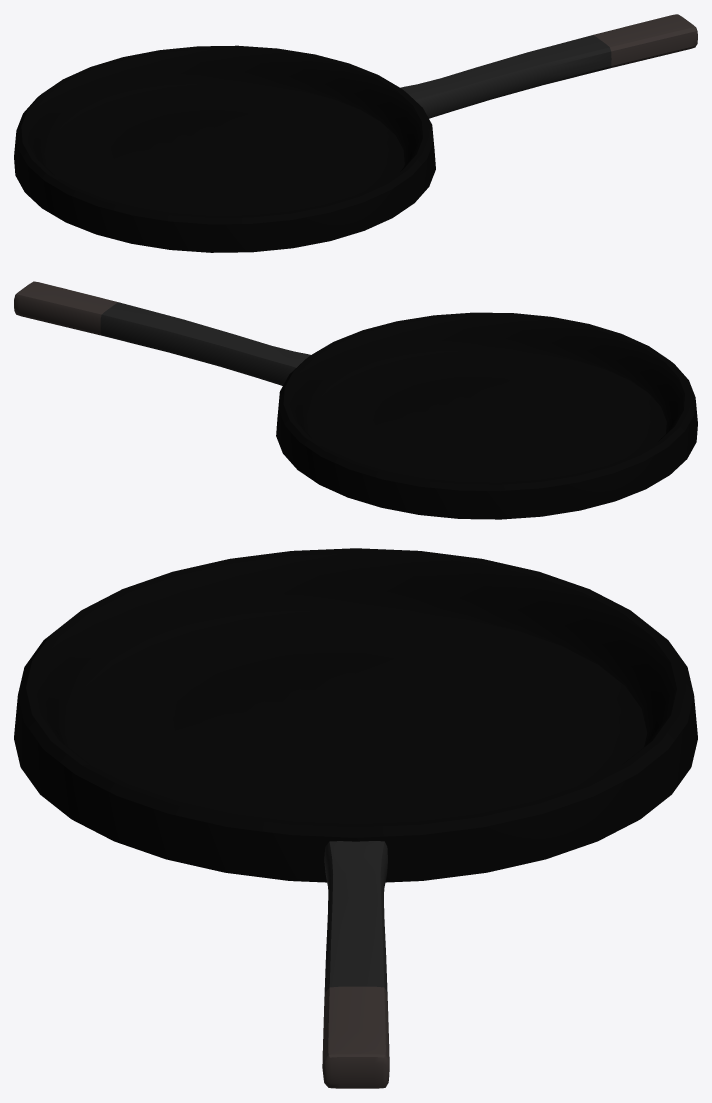
File: HP_pan_1.glb
3 renders of one model, top to bottom at view 1: azimuth 30°, elevation 25°; view 2: azimuth 150°, elevation 25°; view 3: azimuth 270°, elevation 25°, orthographic. The views are drawn at different scales.
Visible parts, largest first — view 1: HP_pan_1.001; view 2: HP_pan_1.001; view 3: HP_pan_1.001.
Boxes of the visible parts, x1,y1,x2,y2 form: HP_pan_1.001: [14, 14, 697, 252]; HP_pan_1.001: [14, 281, 697, 519]; HP_pan_1.001: [14, 548, 697, 1088].
Size of the model in its own units: 0.4032 by 0.0206 by 0.228.
1 material, 1 textured.
